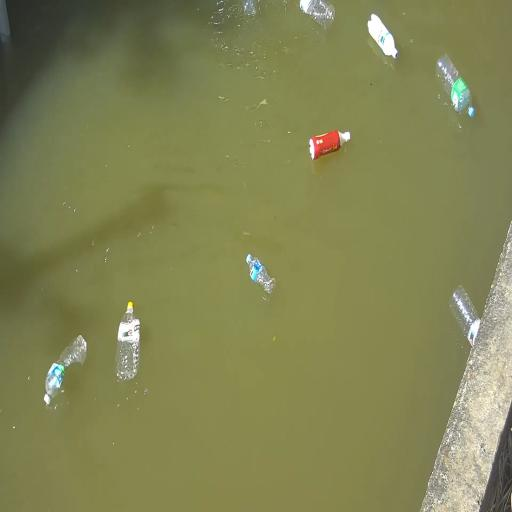plastic: (44, 336, 86, 405), (436, 55, 474, 117), (115, 301, 140, 383), (451, 286, 480, 347), (368, 14, 398, 59), (246, 253, 275, 295), (310, 131, 350, 160)
